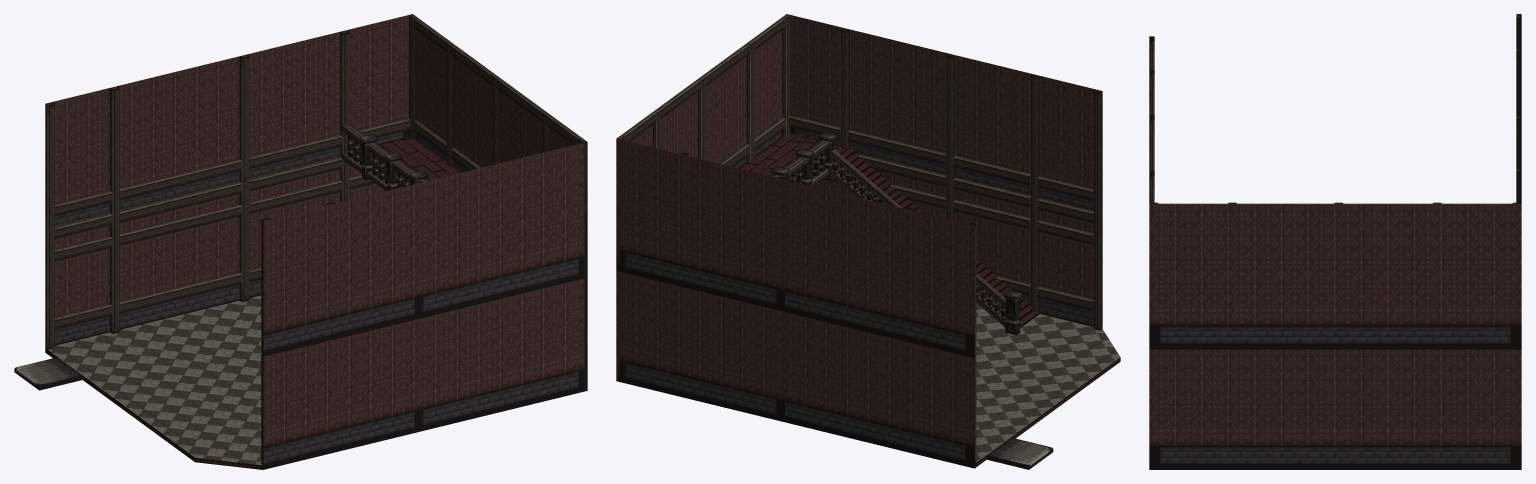
File: EnvBdgMD_City_B_Indoor_Pub_B.FBX
3 views of the same model, side by side, from view 1: azimuth 30°, elevation 25°; view 2: azimuth 150°, elevation 25°; view 3: azimuth 270°, elevation 25° (orthographic). The views are drawn at different scales.
Visible parts, largest first — view 1: EnvBdgMD_City_B_Indoor_Pub_B; view 2: EnvBdgMD_City_B_Indoor_Pub_B; view 3: EnvBdgMD_City_B_Indoor_Pub_B.
Boxes of the visible parts, <box> form: EnvBdgMD_City_B_Indoor_Pub_B: <box>14,14,587,469</box>; EnvBdgMD_City_B_Indoor_Pub_B: <box>616,14,1120,469</box>; EnvBdgMD_City_B_Indoor_Pub_B: <box>1149,14,1521,469</box>.
Size of the model in its own units: 1900 by 1100 by 1400.
